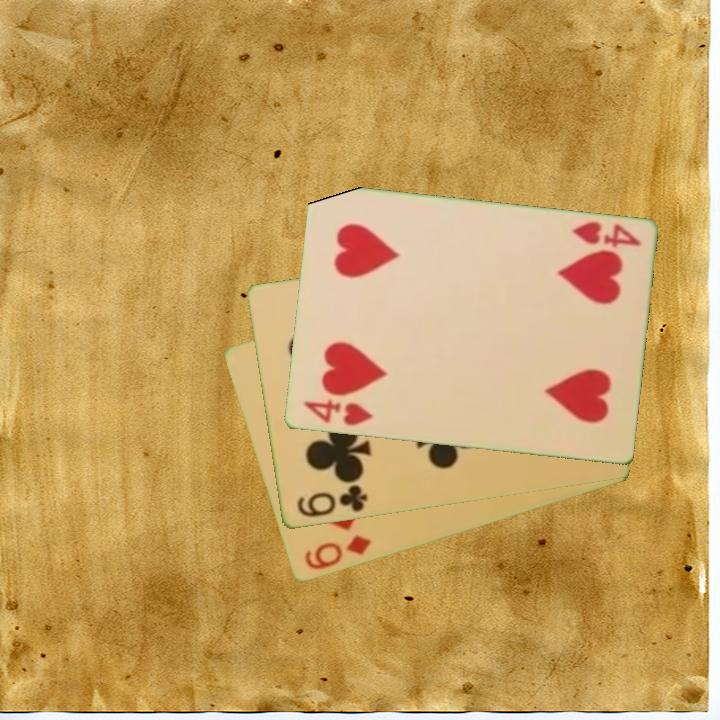4h: (299, 396, 375, 429), (568, 218, 643, 251)
6c: (293, 482, 370, 521)
6d: (301, 531, 374, 573)
